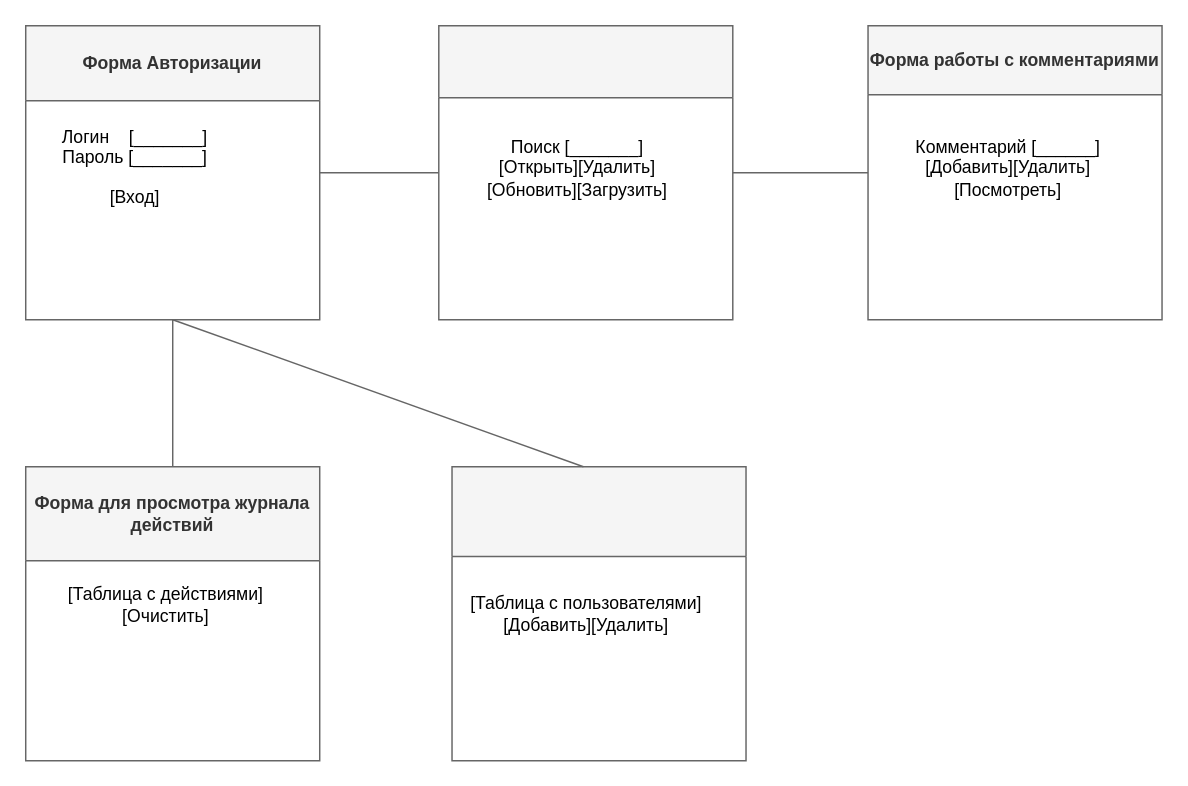
This 1188x786 diagram has some shape labels left out. Here are the shapes that lost their labels. From the top down, the box of each, then its label:
(437, 24, 733, 320): Форма работы с документами
(451, 465, 746, 761): Форма для управления пользователями
